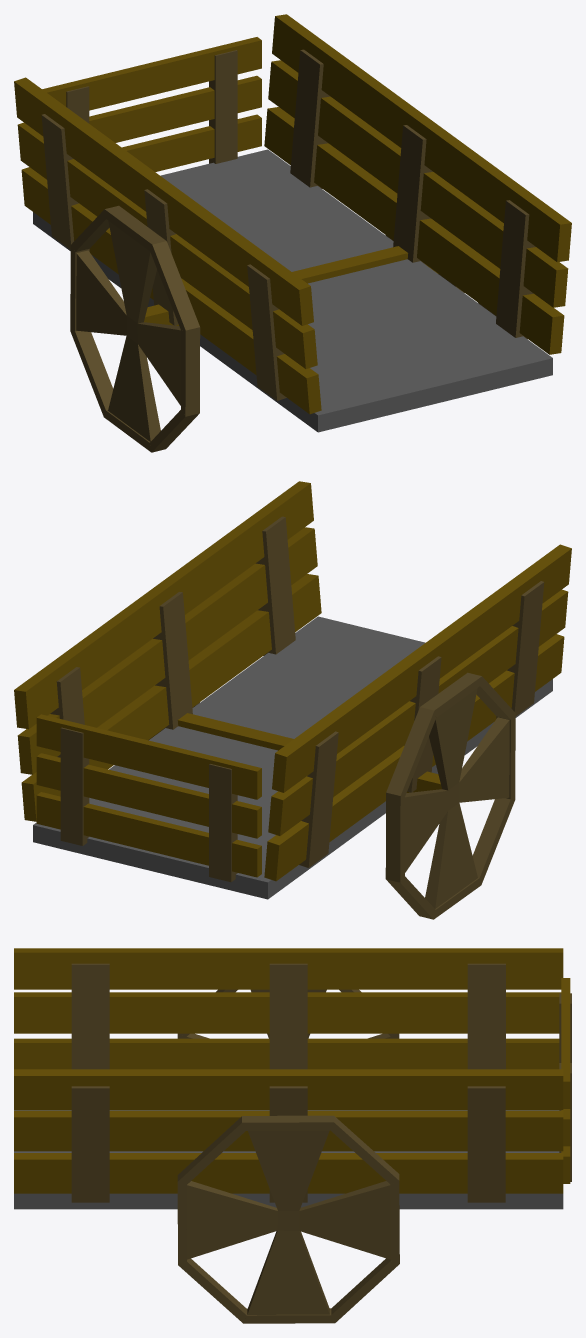
The model's file is Karre.fbx.
3 views of the same model, one above another, from view 1: azimuth 30°, elevation 25°; view 2: azimuth 150°, elevation 25°; view 3: azimuth 270°, elevation 25° (orthographic). The views are drawn at different scales.
Visible parts, largest first — view 1: Karre; view 2: Karre; view 3: Karre.
Boxes of the visible parts, x1,y1,x2,y2 form: Karre: (14, 14, 571, 452); Karre: (14, 481, 571, 919); Karre: (14, 948, 571, 1323).
Bounding box in the file's own units: 88.89 × 62.96 × 135.
